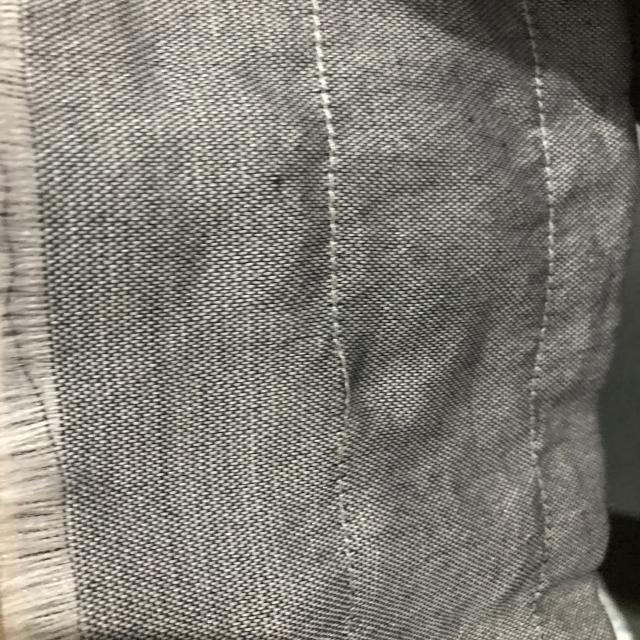good: (300, 179, 352, 294)
skip: (320, 327, 369, 431)
